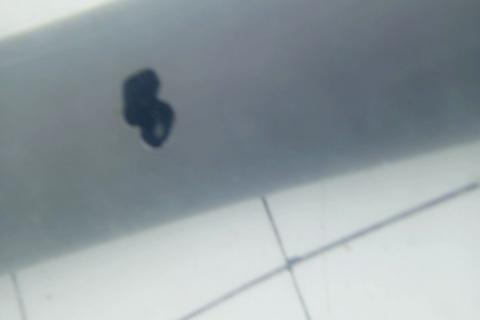kebocoran: (121, 67, 176, 150)
